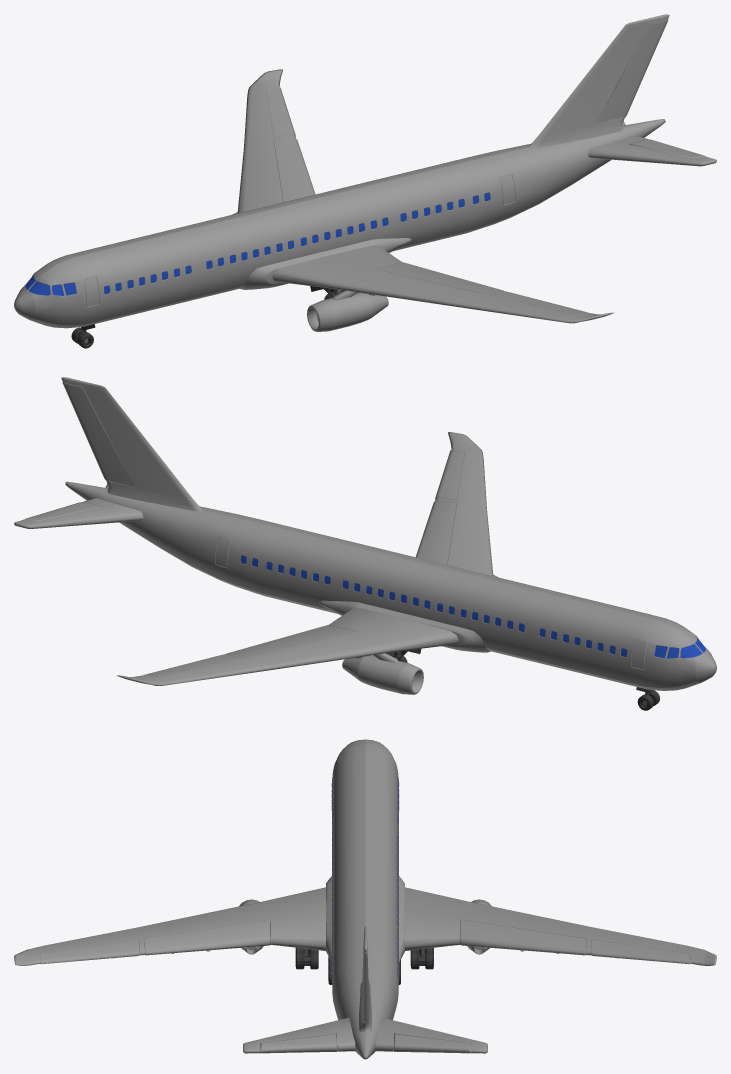
Rendered from airplane_a.FBX.
3 views of the same model, one above another, from view 1: azimuth 30°, elevation 25°; view 2: azimuth 150°, elevation 25°; view 3: azimuth 270°, elevation 25° (orthographic). The views are drawn at different scales.
Parts seen in each view (by area): view 1: Object001; view 2: Object001; view 3: Object001.
Boxes of the visible parts, left/top/right/bottom form: Object001: left=14, top=14, right=716, bottom=348; Object001: left=14, top=377, right=716, bottom=710; Object001: left=14, top=739, right=716, bottom=1059.
Size of the model in its own units: 44.55 by 12.25 by 39.27.
